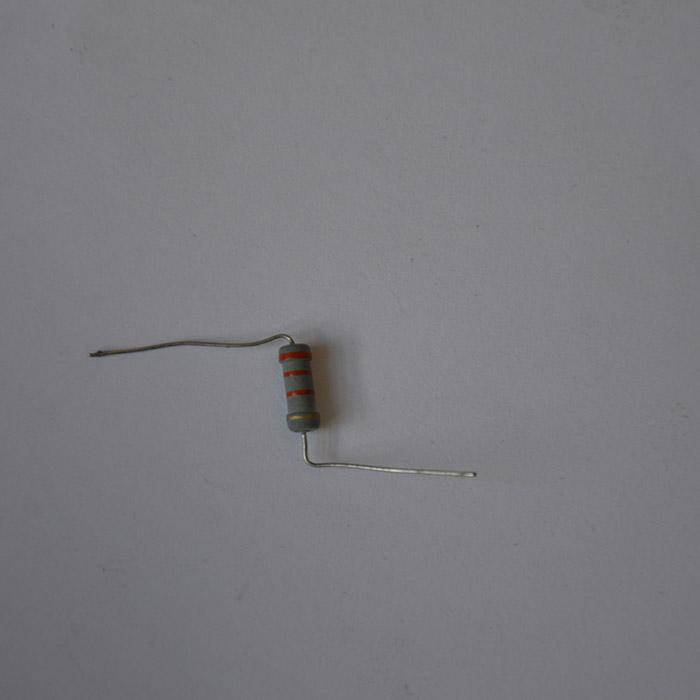resistor: (278, 343, 321, 433)
